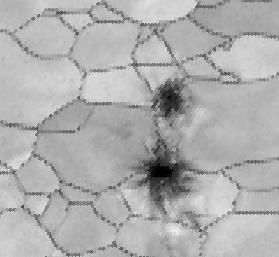good_void: (129, 132, 202, 218), (142, 72, 196, 133), (174, 209, 206, 235)
